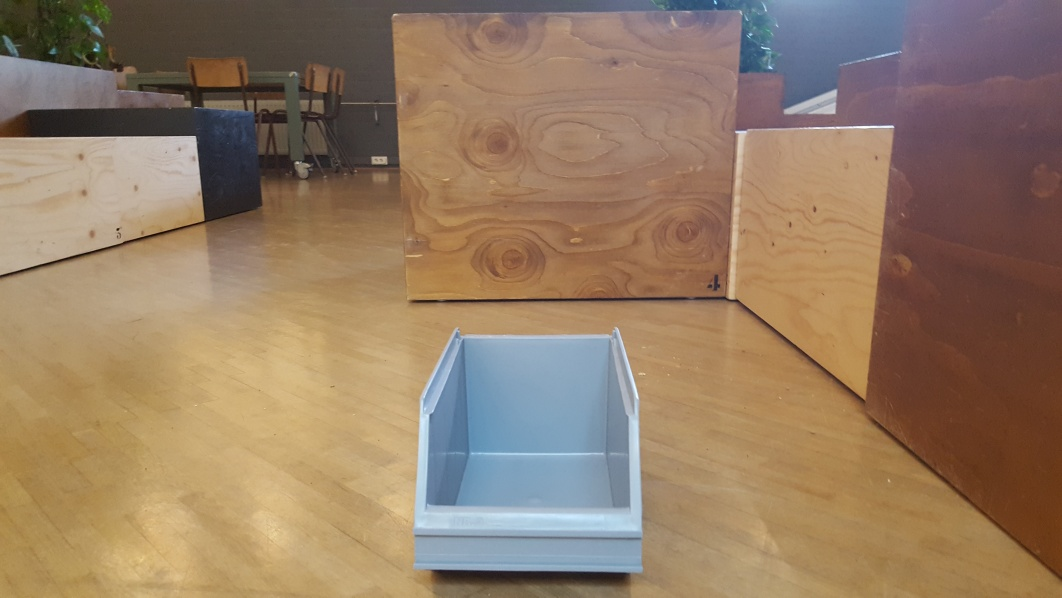tray: (413, 325, 647, 578)
